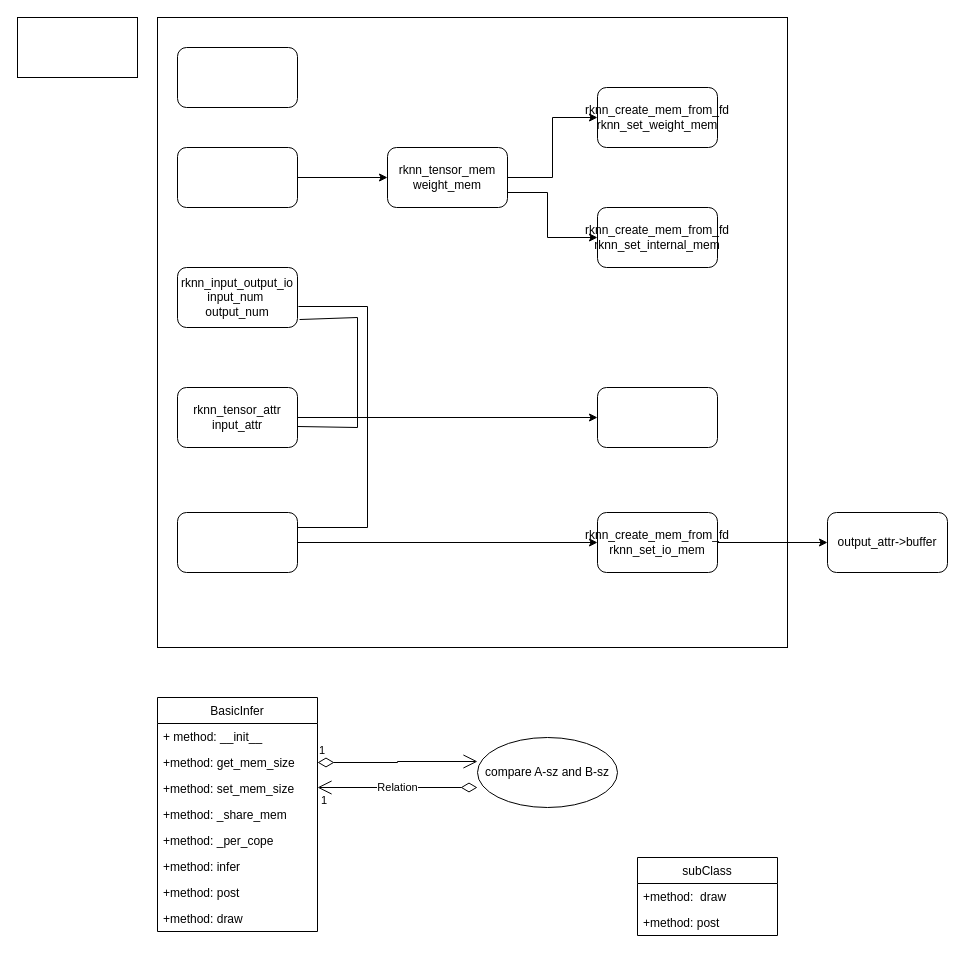
This 965x956 diagram has some shape labels left out. The shapes that lost their labels are listed below. From the top down, each one's centre as x and y in pixels, then its label:
the point at 77,47: rknn_context ctx
the point at 237,77: rknn_version
the point at 237,177: rknn_mem_size weightfile
the point at 657,417: rknn_create_mem_from_fd memcpy rknn_set_io_mem
the point at 237,542: rknn_tensor_attr output_attr
